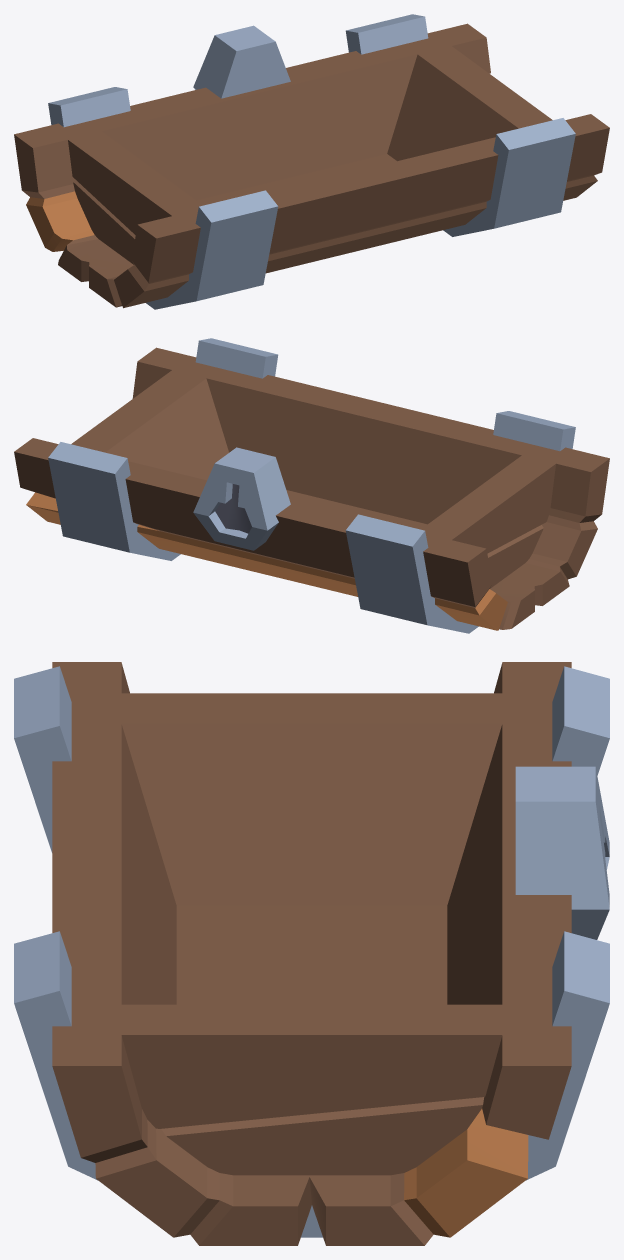
Rendered from Chest_Lid.fbx.
The picture shows the model from 3 angles, top to bottom: view 1: azimuth 30°, elevation 25°; view 2: azimuth 150°, elevation 25°; view 3: azimuth 270°, elevation 25°; orthographic projection. The views are drawn at different scales.
Parts seen in each view (by area): view 1: Chest_Lid; view 2: Chest_Lid; view 3: Chest_Lid.
Boxes of the visible parts, <box> form: Chest_Lid: <box>14,14,609,309</box>; Chest_Lid: <box>14,338,609,633</box>; Chest_Lid: <box>14,662,609,1245</box>.
Size of the model in its own units: 1.22 by 0.7605 by 0.41.
